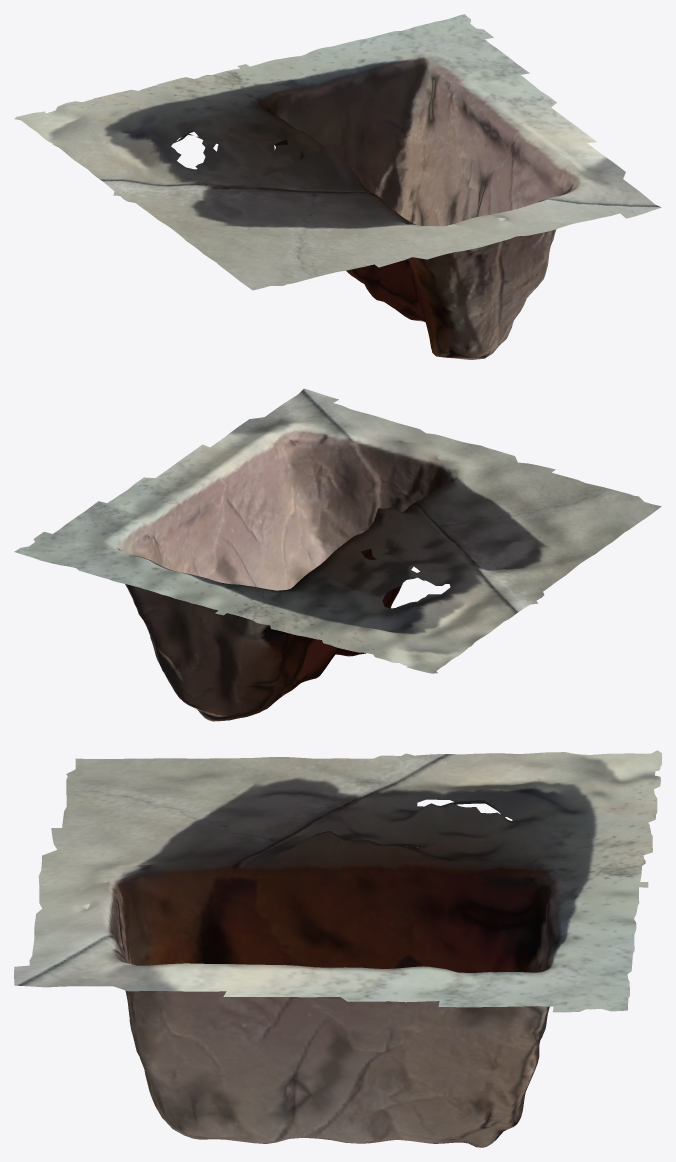
File: swarm_rock.dae
3 views of the same model, one above another, from view 1: azimuth 30°, elevation 25°; view 2: azimuth 150°, elevation 25°; view 3: azimuth 270°, elevation 25° (orthographic). The views are drawn at different scales.
Visible parts, largest first — view 1: textured; view 2: textured; view 3: textured.
Boxes of the visible parts, box(x1,y1,x2,y2) form: textured: box(14, 14, 661, 359); textured: box(14, 388, 661, 721); textured: box(14, 750, 661, 1147).
Bounding box in the file's own units: 5.71 × 5.81 × 2.45.
3 materials, 3 textured.
